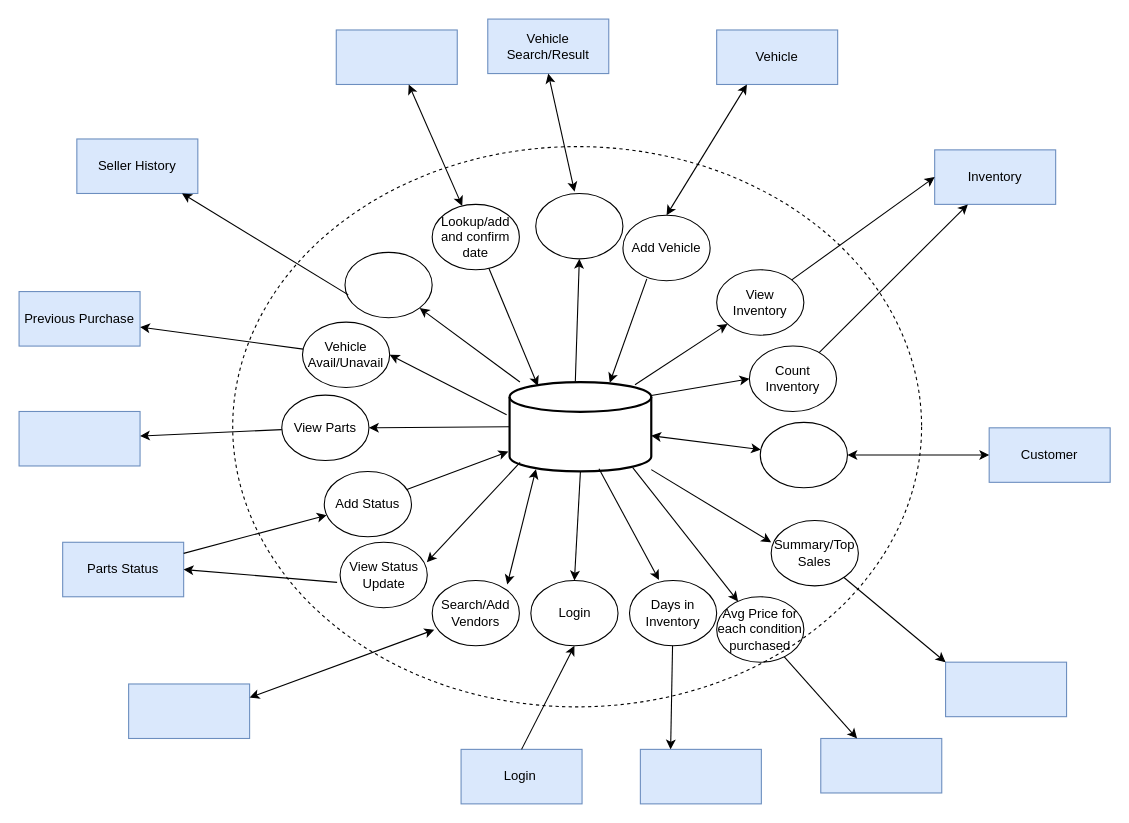
Some shapes in this 1129 by 823 pixel diagram are drawn without their labels. Each missing label, with the centre of its shape:
All vehicles bought/sellers: the point at 388,284
Avg Time in Inventory: the point at 700,776
Database: the point at 580,426
Lookup/add Customer: the point at 803,454
Monthly Sales: the point at 1005,689
Part Statistic: the point at 79,438
Parts Order: the point at 189,710
Price Per Condition: the point at 881,765
Sales Order: the point at 396,56
View Vehicle: the point at 579,225
